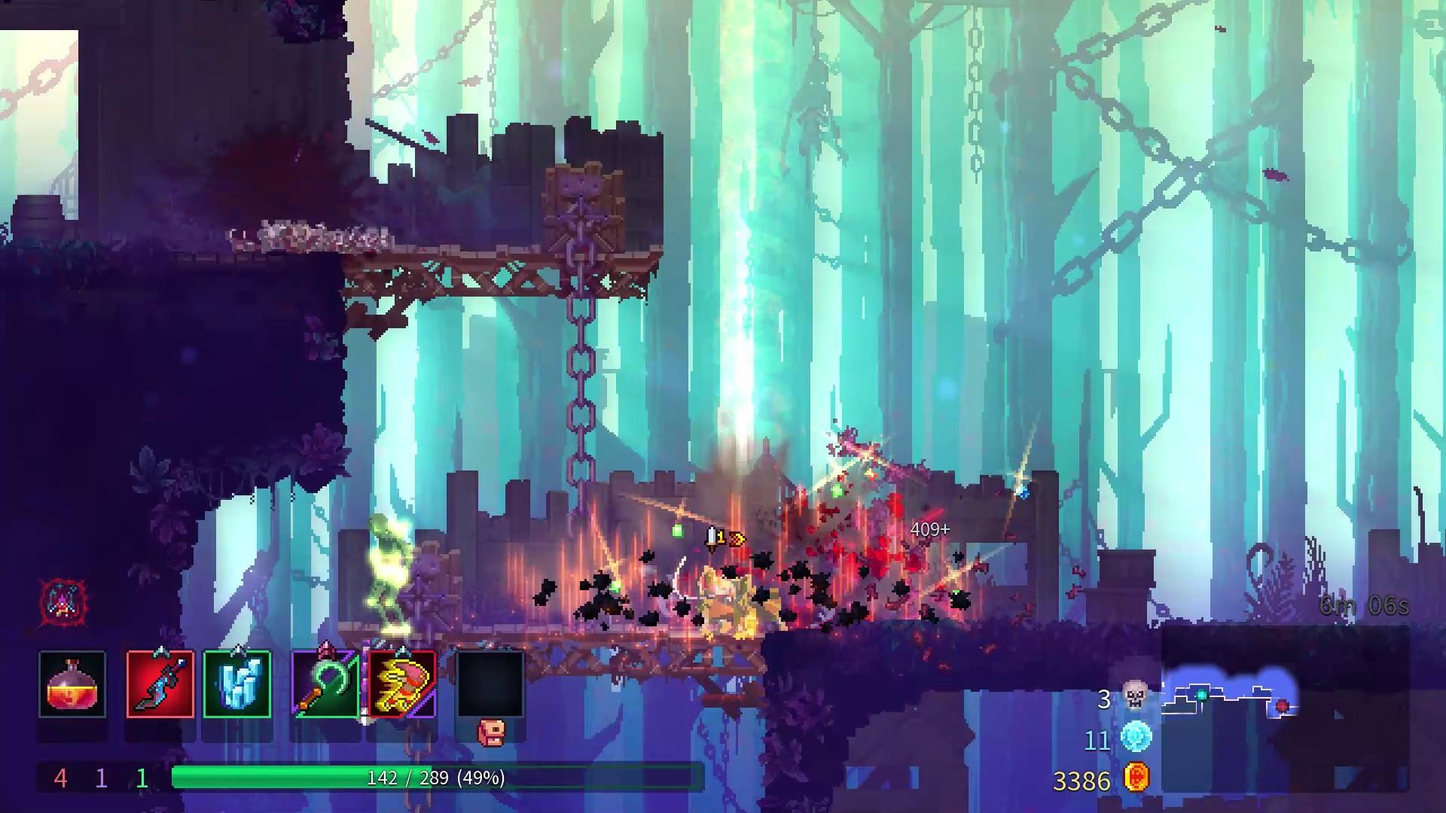gamer: (680, 565, 792, 640)
green1: (360, 505, 425, 637)
